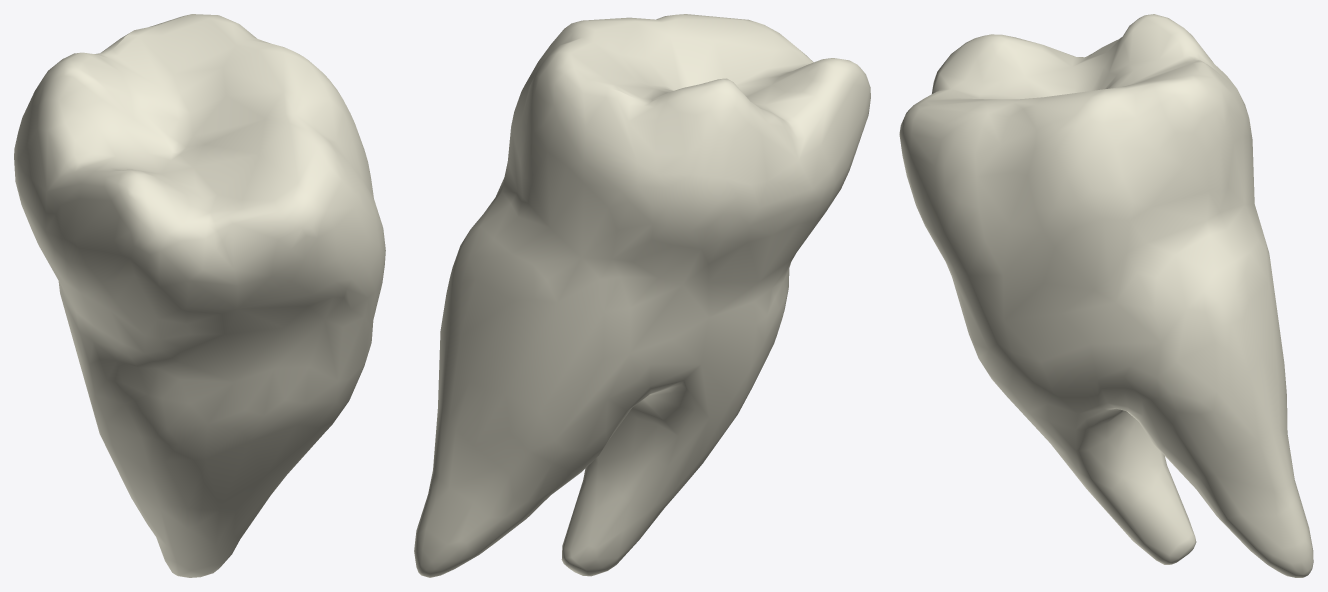
File: Left first lower molar tooth.fbx
3 renders of one model, left to right at view 1: azimuth 30°, elevation 25°; view 2: azimuth 150°, elevation 25°; view 3: azimuth 270°, elevation 25°, orthographic. The views are drawn at different scales.
Visible parts, largest first — view 1: Left first lower molar tooth; view 2: Left first lower molar tooth; view 3: Left first lower molar tooth.
Boxes of the visible parts, x1,y1,x2,y2 form: Left first lower molar tooth: (14, 14, 385, 577); Left first lower molar tooth: (414, 14, 870, 577); Left first lower molar tooth: (899, 14, 1313, 577).
Bounding box in the file's own units: 1.64 × 2.62 × 2.02.
